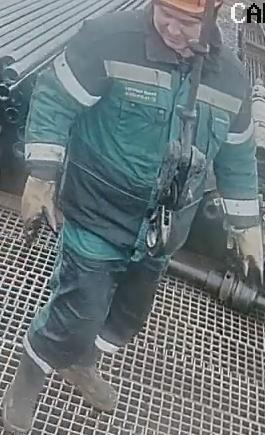gloves: (226, 205, 265, 286), (20, 174, 63, 244)
helmet: (151, 0, 222, 22)
vest: (40, 21, 256, 257)
